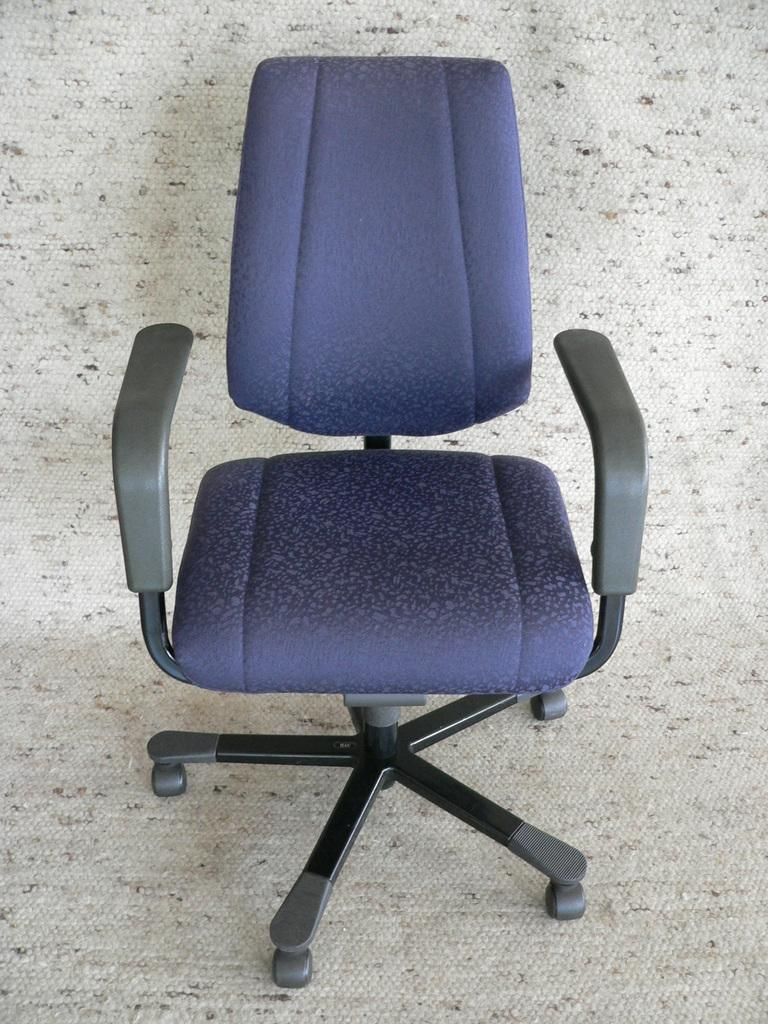Chair: (94, 44, 653, 1003)
